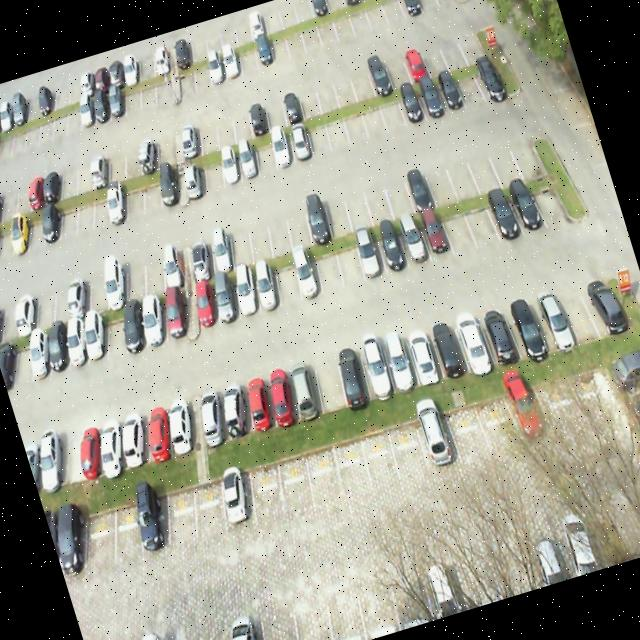empty: (154, 476, 208, 550), (70, 504, 126, 572), (99, 496, 154, 565), (180, 470, 233, 540), (269, 451, 321, 517), (354, 426, 404, 494), (240, 456, 292, 520), (298, 440, 348, 504), (550, 275, 596, 343), (92, 300, 139, 364), (329, 432, 374, 498), (306, 352, 348, 414), (524, 167, 568, 226), (462, 136, 503, 194), (419, 149, 458, 206), (460, 193, 498, 250), (309, 242, 346, 298), (507, 126, 546, 179), (268, 254, 304, 311), (486, 131, 523, 186), (113, 254, 152, 306), (132, 166, 170, 218), (437, 202, 475, 254), (78, 266, 118, 314), (442, 146, 478, 199), (380, 162, 414, 218), (134, 250, 174, 297), (116, 172, 152, 224), (81, 182, 118, 232), (357, 174, 393, 224), (318, 188, 352, 240), (258, 208, 294, 257), (333, 235, 365, 288), (280, 202, 314, 250), (222, 220, 256, 266), (240, 217, 274, 262), (249, 134, 281, 180), (320, 108, 352, 154), (340, 185, 372, 231), (452, 64, 484, 108), (198, 150, 228, 196), (341, 102, 370, 147), (358, 97, 388, 139), (378, 91, 407, 133), (303, 116, 331, 156)
occupied: (124, 486, 182, 558), (526, 284, 574, 355), (236, 368, 286, 436), (573, 266, 623, 334), (210, 463, 262, 527), (66, 418, 115, 483), (502, 291, 548, 359), (48, 512, 98, 574), (202, 268, 248, 332), (452, 310, 498, 374), (476, 301, 522, 365), (88, 415, 134, 477), (112, 408, 158, 470), (110, 291, 154, 355), (330, 344, 372, 410), (378, 328, 420, 394), (243, 254, 286, 318), (131, 292, 175, 354), (260, 364, 304, 426), (283, 360, 327, 422), (134, 401, 178, 462), (428, 317, 470, 380), (214, 377, 257, 438), (153, 284, 195, 346), (157, 399, 201, 458), (402, 322, 443, 384), (479, 184, 522, 242), (75, 306, 116, 366), (223, 266, 264, 326), (185, 276, 223, 340), (354, 338, 394, 398), (192, 388, 233, 443), (289, 247, 326, 304), (94, 258, 134, 310), (402, 158, 438, 214), (394, 213, 430, 268), (352, 229, 388, 283), (373, 222, 408, 277), (98, 177, 135, 229), (505, 182, 542, 234), (418, 209, 453, 263), (468, 54, 506, 102), (157, 244, 194, 292), (177, 152, 212, 202), (199, 230, 235, 278), (150, 164, 185, 212), (182, 238, 218, 282), (298, 198, 331, 245), (434, 68, 466, 116), (216, 144, 246, 192), (232, 137, 262, 185), (416, 78, 448, 122), (285, 123, 314, 167), (396, 84, 425, 124), (267, 130, 295, 171)
